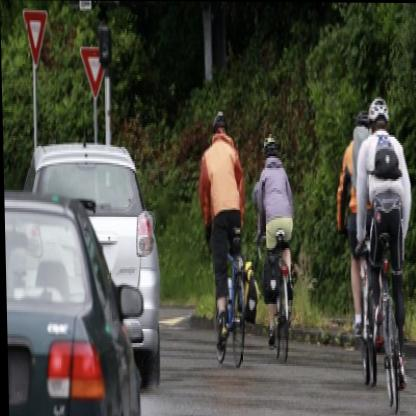With Helmet: (205, 103, 233, 139), (258, 129, 284, 166), (368, 94, 391, 132)
